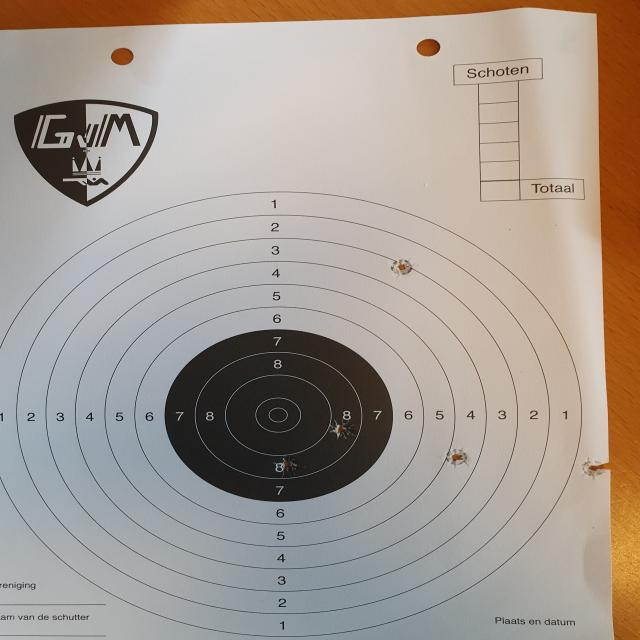0: (578, 456, 609, 484)
3: (388, 256, 416, 279)
5: (444, 447, 471, 469)
8: (273, 454, 302, 478), (327, 418, 359, 439)
Target: (0, 192, 583, 639)
black_contour: (162, 329, 394, 502)
